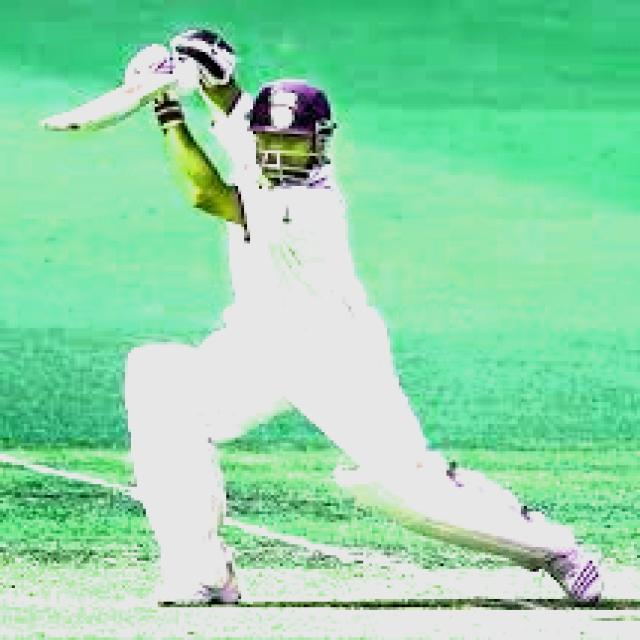bat: (48, 71, 178, 140)
